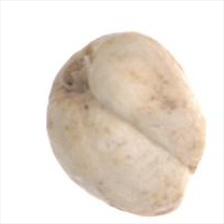L3: (171, 145, 207, 211)
L4: (45, 31, 208, 218)
